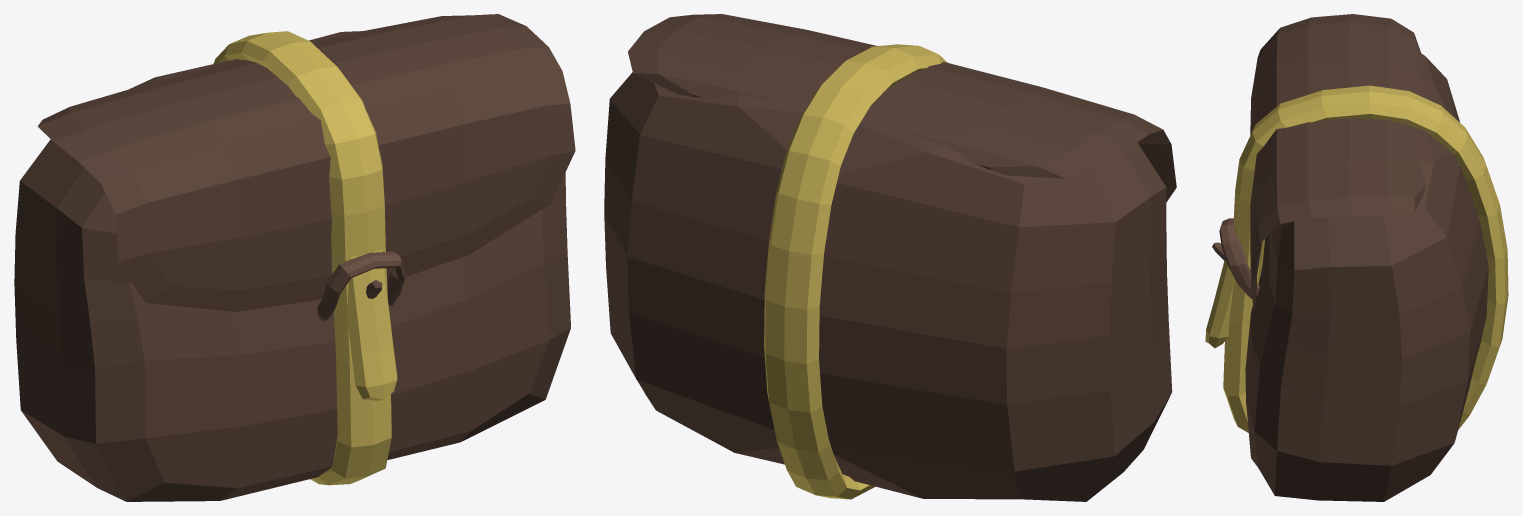
The model's file is Bag.fbx.
3 renders of one model, left to right at view 1: azimuth 30°, elevation 25°; view 2: azimuth 150°, elevation 25°; view 3: azimuth 270°, elevation 25°, orthographic. The views are drawn at different scales.
Parts seen in each view (by area): view 1: Bag; view 2: Bag; view 3: Bag.
Boxes of the visible parts, <box> form: Bag: <box>14,14,575,501</box>; Bag: <box>604,14,1176,501</box>; Bag: <box>1205,14,1508,501</box>.
Bounding box in the file's own units: 0.4009 × 0.3137 × 0.2433.
